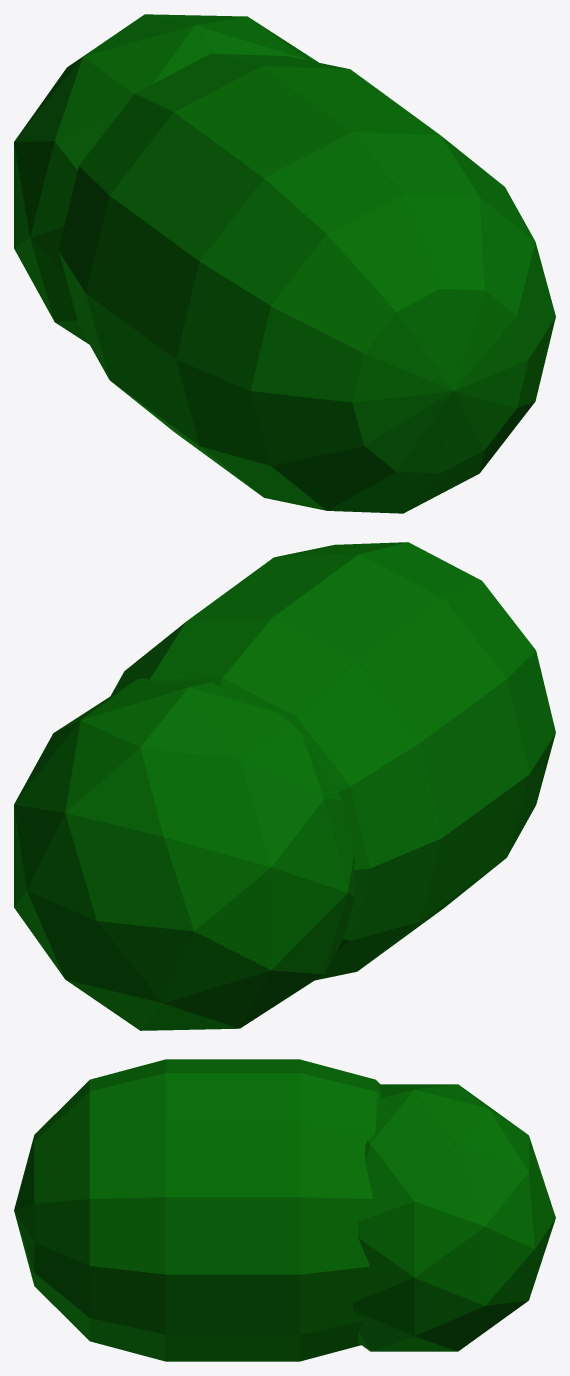
Rendered from _arm-forearm-0.glb.
3 renders of one model, top to bottom at view 1: azimuth 30°, elevation 25°; view 2: azimuth 150°, elevation 25°; view 3: azimuth 270°, elevation 25°, orthographic. The views are drawn at different scales.
Bounding box in the file's own units: 0.098 × 0.098 × 0.1751.
